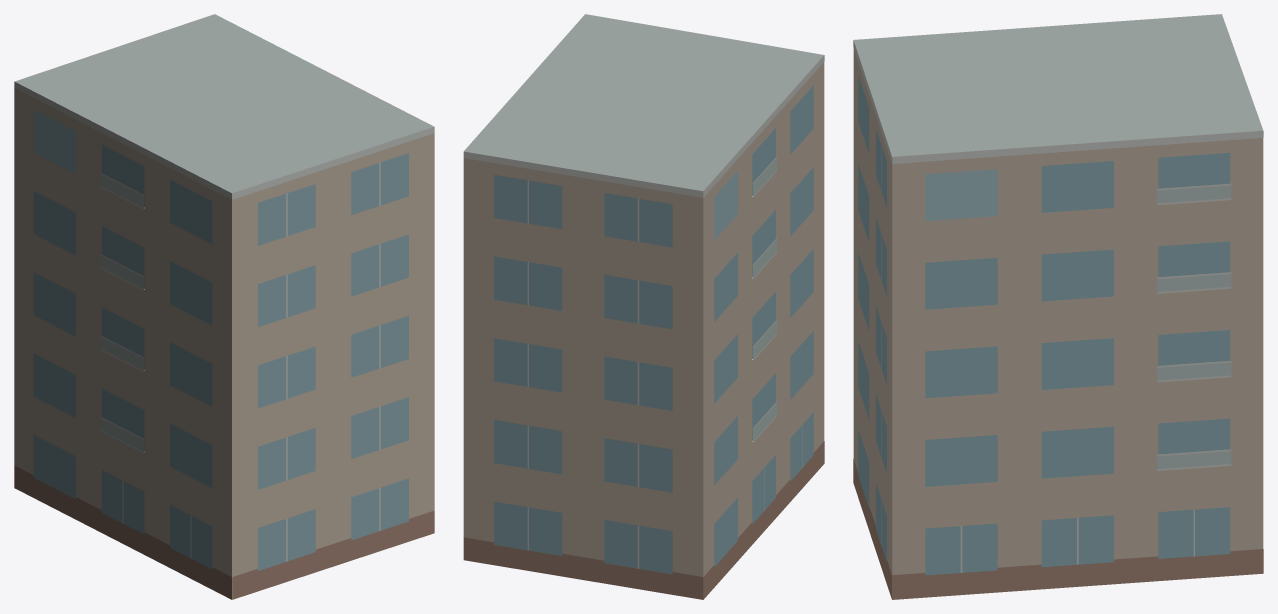
File: survey-upis-32576346.glb
3 views of the same model, side by side, from view 1: azimuth 30°, elevation 25°; view 2: azimuth 150°, elevation 25°; view 3: azimuth 270°, elevation 25° (orthographic). The views are drawn at different scales.
Visible parts, largest first — view 1: survey-upis-32576346.tmp; view 2: survey-upis-32576346.tmp; view 3: survey-upis-32576346.tmp.
Part boxes in pixels (bbox=[...]): survey-upis-32576346.tmp: bbox=[14, 14, 434, 599]; survey-upis-32576346.tmp: bbox=[463, 14, 824, 599]; survey-upis-32576346.tmp: bbox=[853, 14, 1263, 599].
Size of the model in its own units: 10.6 by 15.3 by 12.85.
